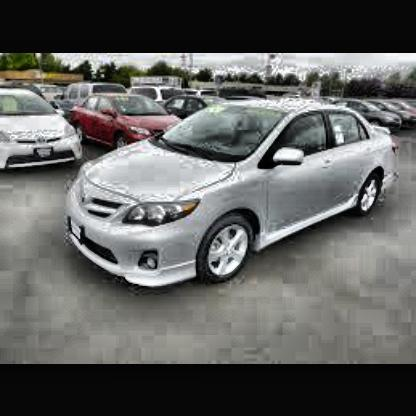Toyota Corolla Sedan 2012: (70, 102, 397, 289)
